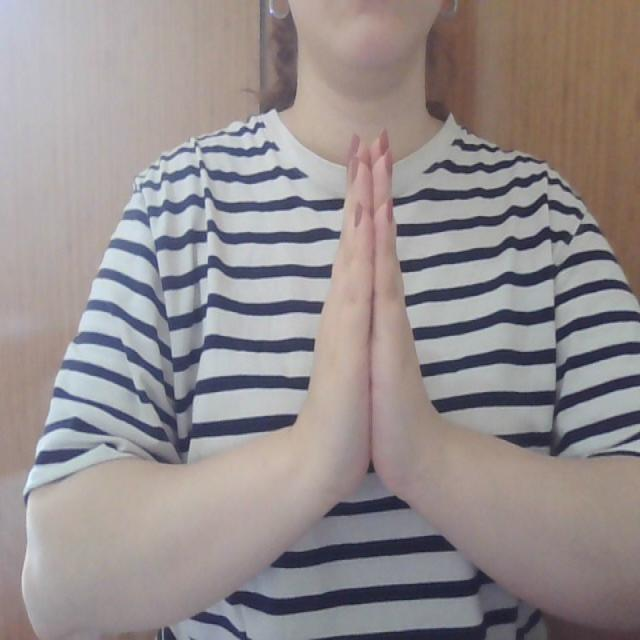Ozur-Dilemek: (302, 120, 456, 518)
